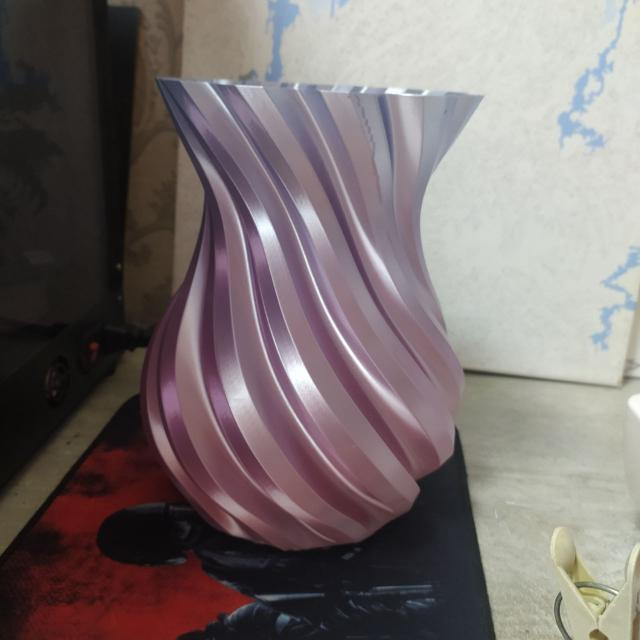Without deffect: (125, 39, 492, 561)
